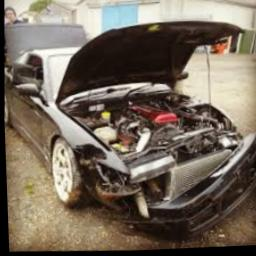Bumper: (88, 135, 256, 242)
